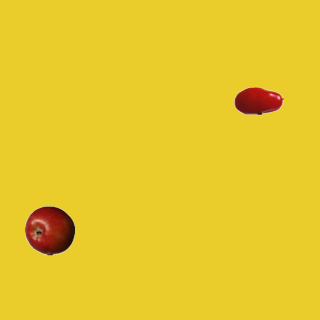Apple Braeburn: (24, 205, 74, 255)
Tomato 2: (233, 75, 283, 125)
